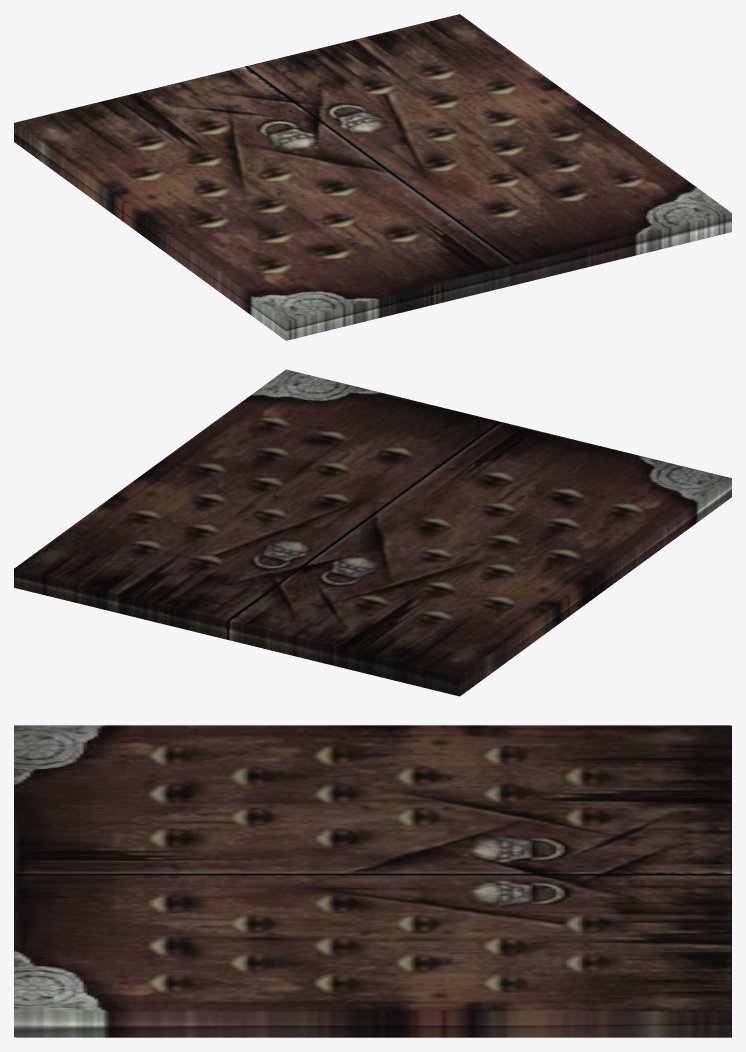
3 views of the same model, one above another, from view 1: azimuth 30°, elevation 25°; view 2: azimuth 150°, elevation 25°; view 3: azimuth 270°, elevation 25° (orthographic). The views are drawn at different scales.
Visible parts, largest first — view 1: 0; view 2: 0; view 3: 0.
Boxes of the visible parts, box(x1,y1,x2,y2) form: 0: box(14, 14, 731, 340); 0: box(14, 369, 731, 696); 0: box(14, 725, 731, 1037).
Size of the model in its own units: 102 by 4.2 by 108.
